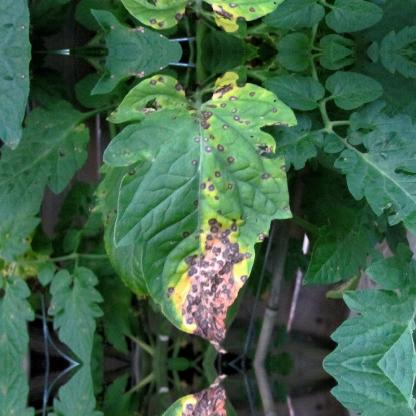Early-Blight: (80, 72, 334, 350)
